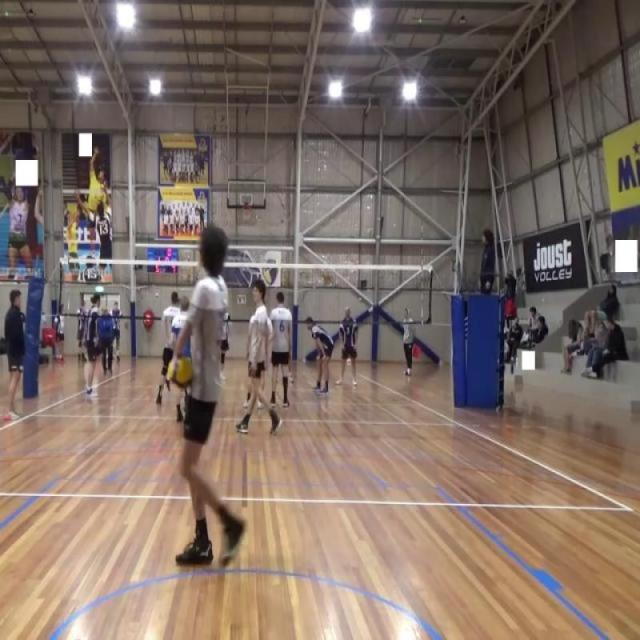volleyball: (165, 353, 196, 392)
